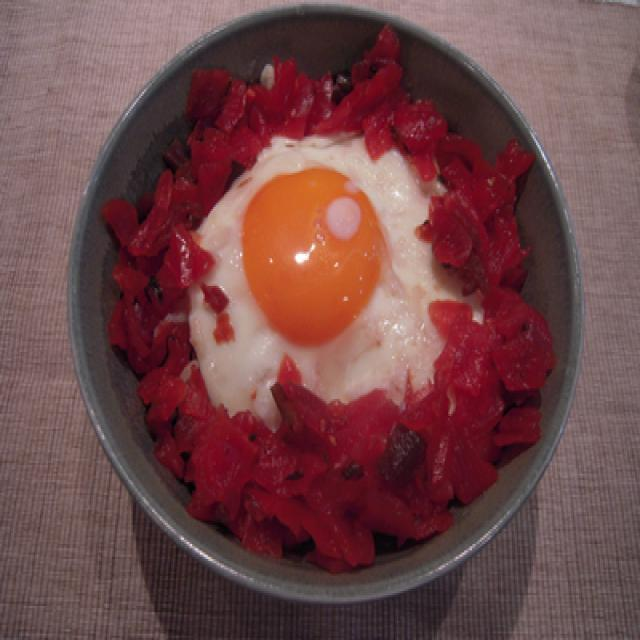Egg: (182, 126, 462, 406)
